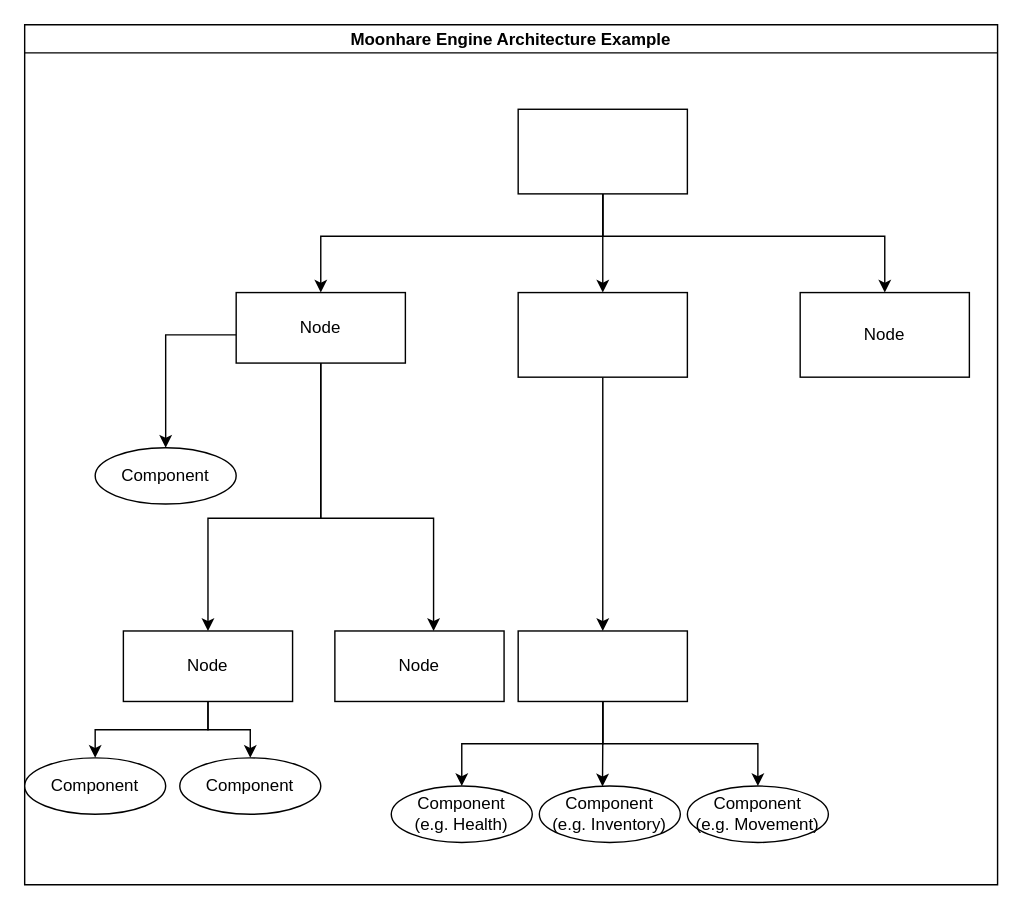
This 1022x909 diagram has some shape labels left out. The shapes that lost their labels are listed below. From the top down, each one's centre as x and y in pixels, then its label:
pixel 602 151: World
pixel 602 334: Node (e.g.: Scene)
pixel 602 665: Node (e.g.: Player)
